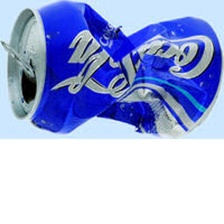can: (0, 1, 224, 137)
